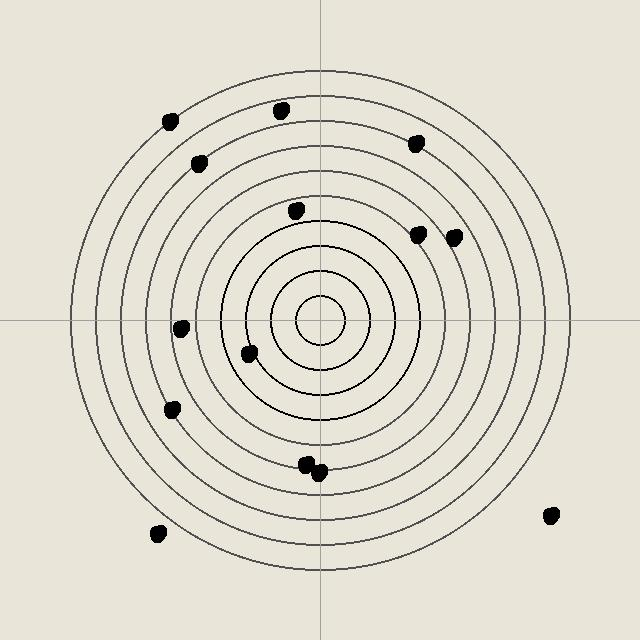random_scatter: (407, 224, 427, 244), (405, 133, 425, 153), (443, 227, 463, 247), (147, 523, 167, 543), (295, 454, 315, 474), (270, 100, 290, 120), (170, 318, 190, 338), (159, 111, 179, 131), (188, 153, 208, 173), (238, 343, 258, 363), (308, 462, 328, 482), (161, 399, 181, 419), (285, 200, 305, 220), (540, 505, 560, 525)
